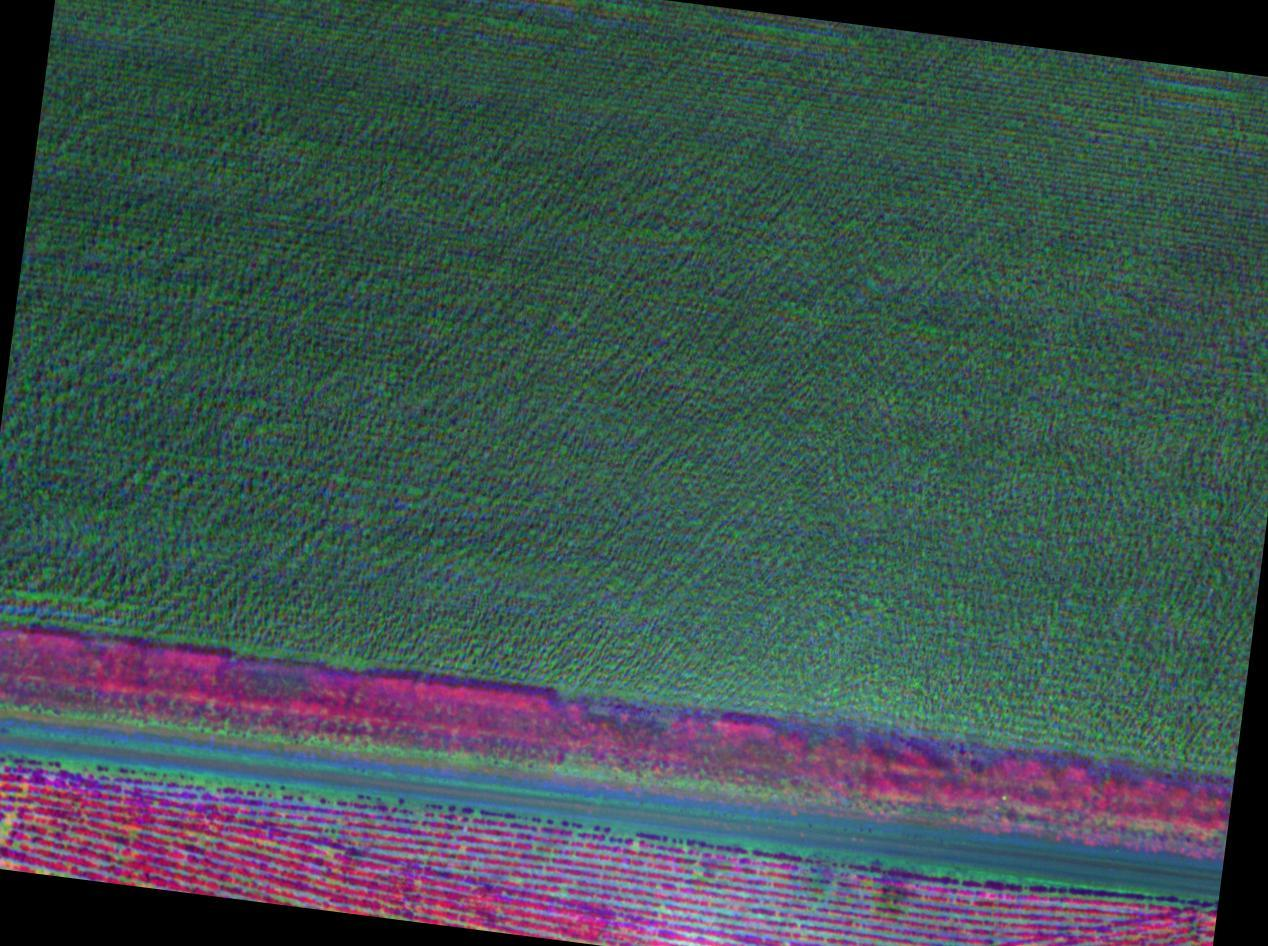dc: (0, 778, 94, 871), (851, 851, 944, 942)
